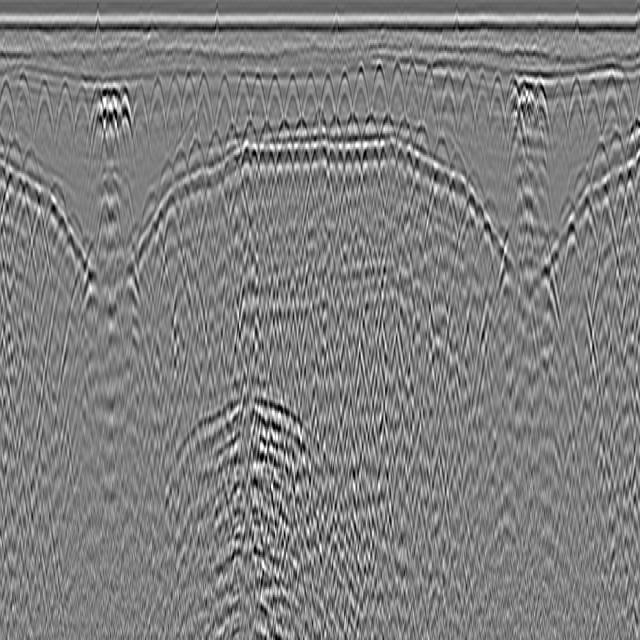hyperbola: (11, 65, 33, 153), (34, 64, 54, 160), (148, 68, 167, 163), (600, 52, 618, 150), (213, 55, 234, 135), (486, 52, 506, 130), (52, 80, 74, 146), (75, 74, 91, 164), (438, 68, 458, 138), (167, 71, 185, 148), (583, 71, 602, 143), (566, 71, 585, 140), (456, 68, 474, 140), (550, 68, 568, 140), (178, 71, 197, 138), (91, 93, 108, 166), (250, 49, 267, 122), (133, 80, 149, 156), (233, 68, 251, 135), (421, 59, 438, 128), (302, 65, 320, 130), (335, 68, 353, 132), (388, 58, 405, 125), (405, 58, 422, 125), (533, 81, 550, 148), (283, 68, 302, 127), (318, 64, 335, 128), (369, 58, 388, 115), (196, 68, 212, 135), (266, 68, 282, 135), (353, 58, 369, 125), (117, 77, 131, 153), (474, 68, 490, 132), (1, 77, 15, 143)
